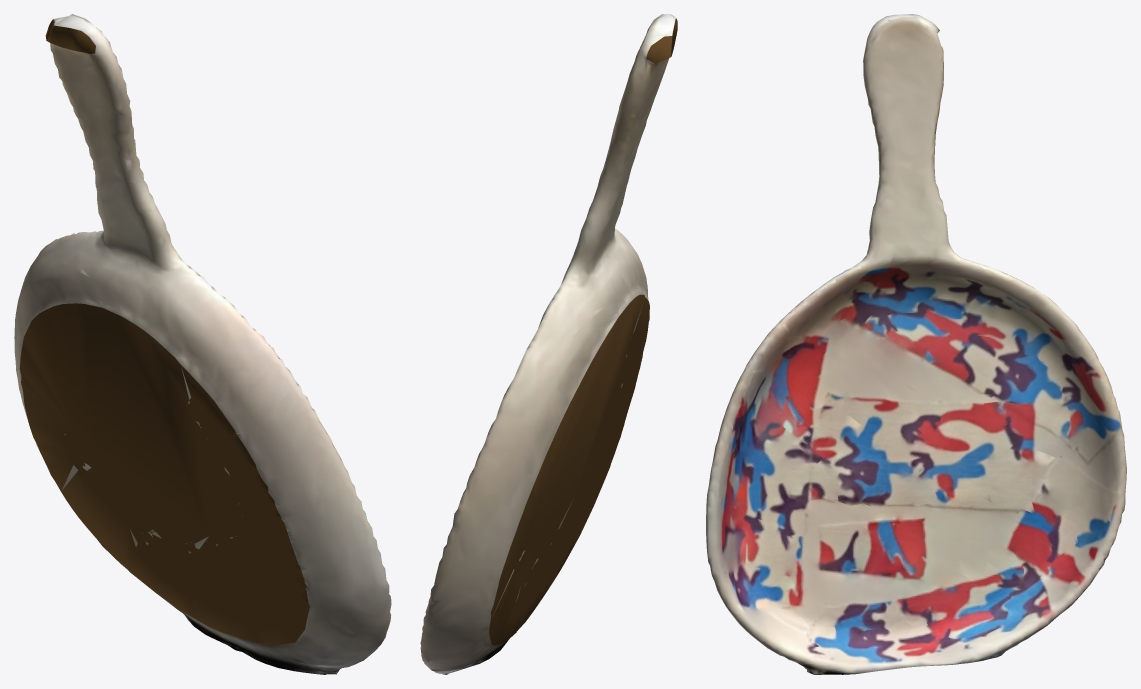
File: Pan.obj
The picture shows the model from 3 angles, left to right: view 1: azimuth 30°, elevation 25°; view 2: azimuth 150°, elevation 25°; view 3: azimuth 270°, elevation 25°; orthographic projection. The views are drawn at different scales.
Bounding box in the file's own units: 0.1142 × 0.3086 × 0.206.
1 material, 1 textured.
